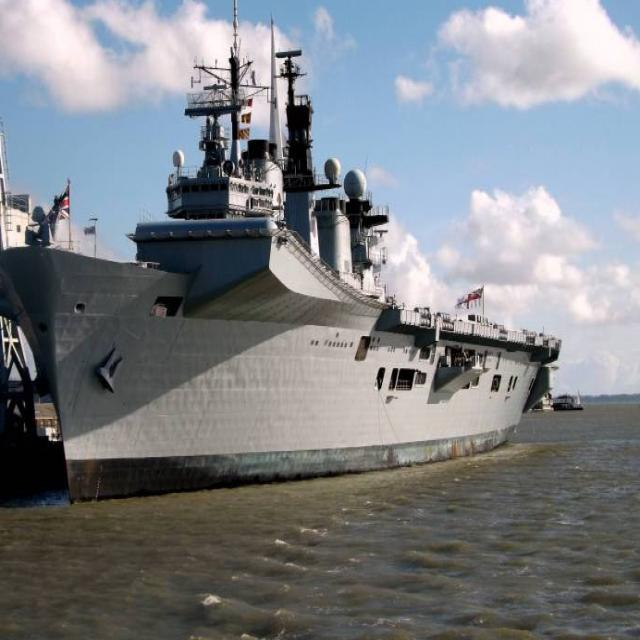Portanaves: (1, 1, 569, 522)
